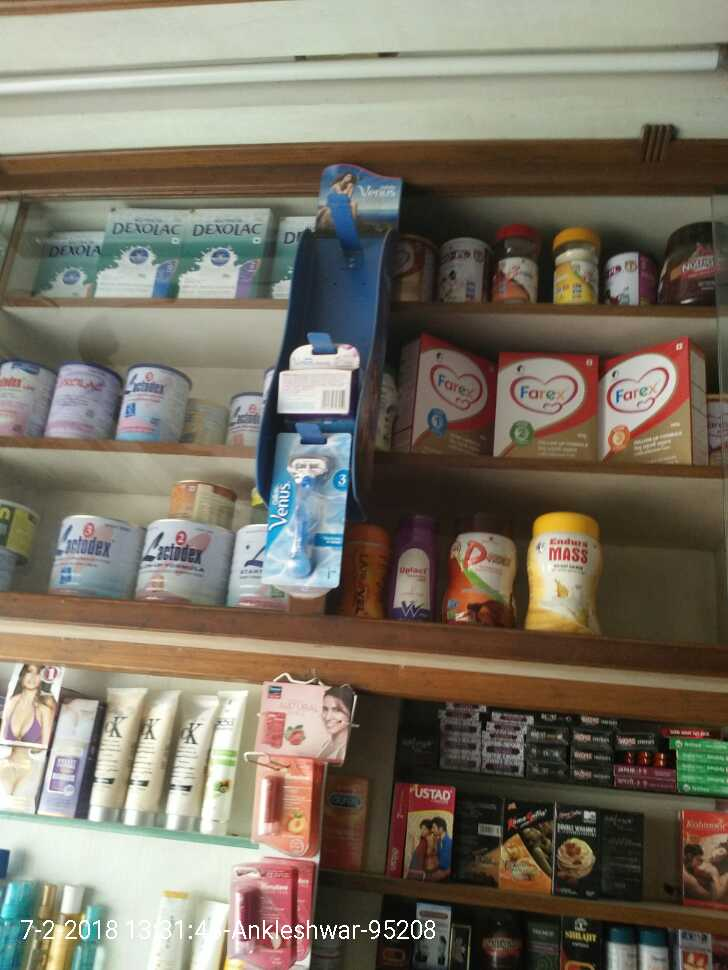venus: (264, 436, 347, 587)
